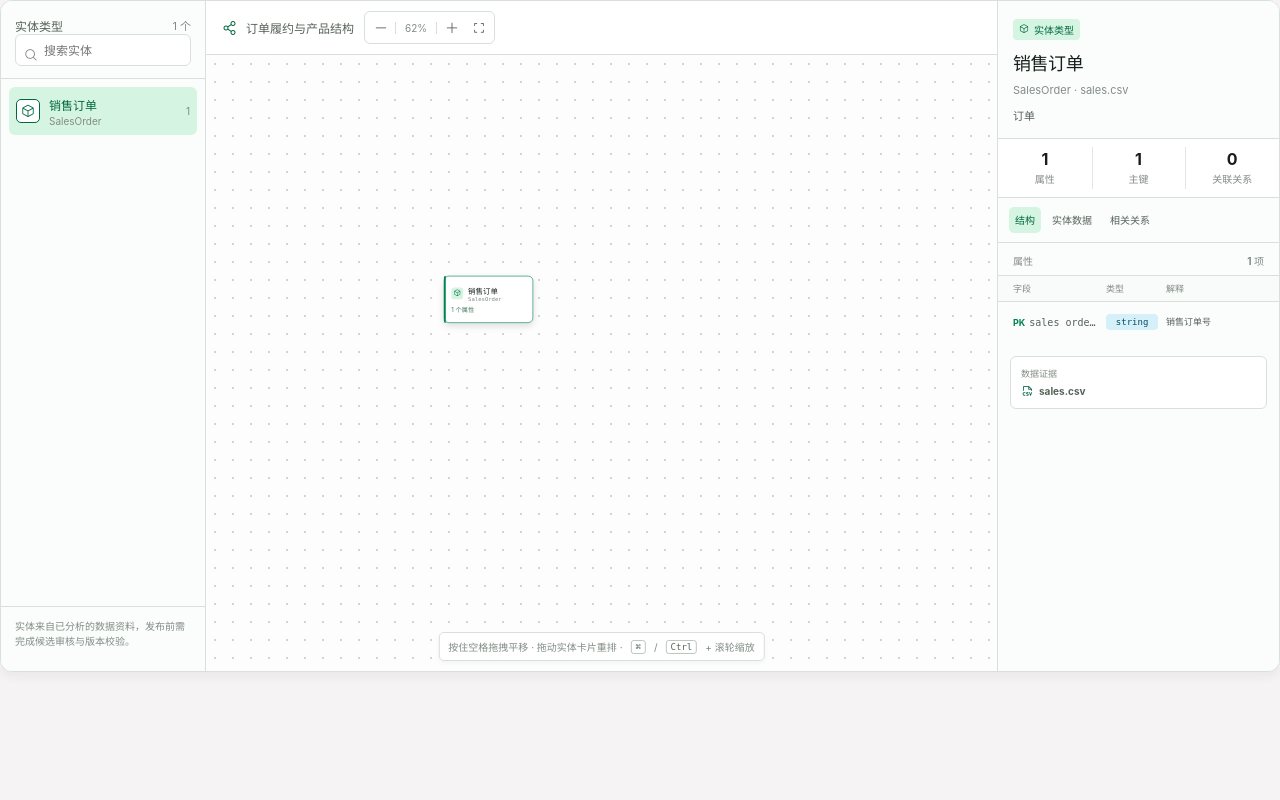
it: shows materialized entity instances and their source evidence
Click the button "实体数据": (1072,220) top-left (1045, 206), bottom-right (1099, 232)
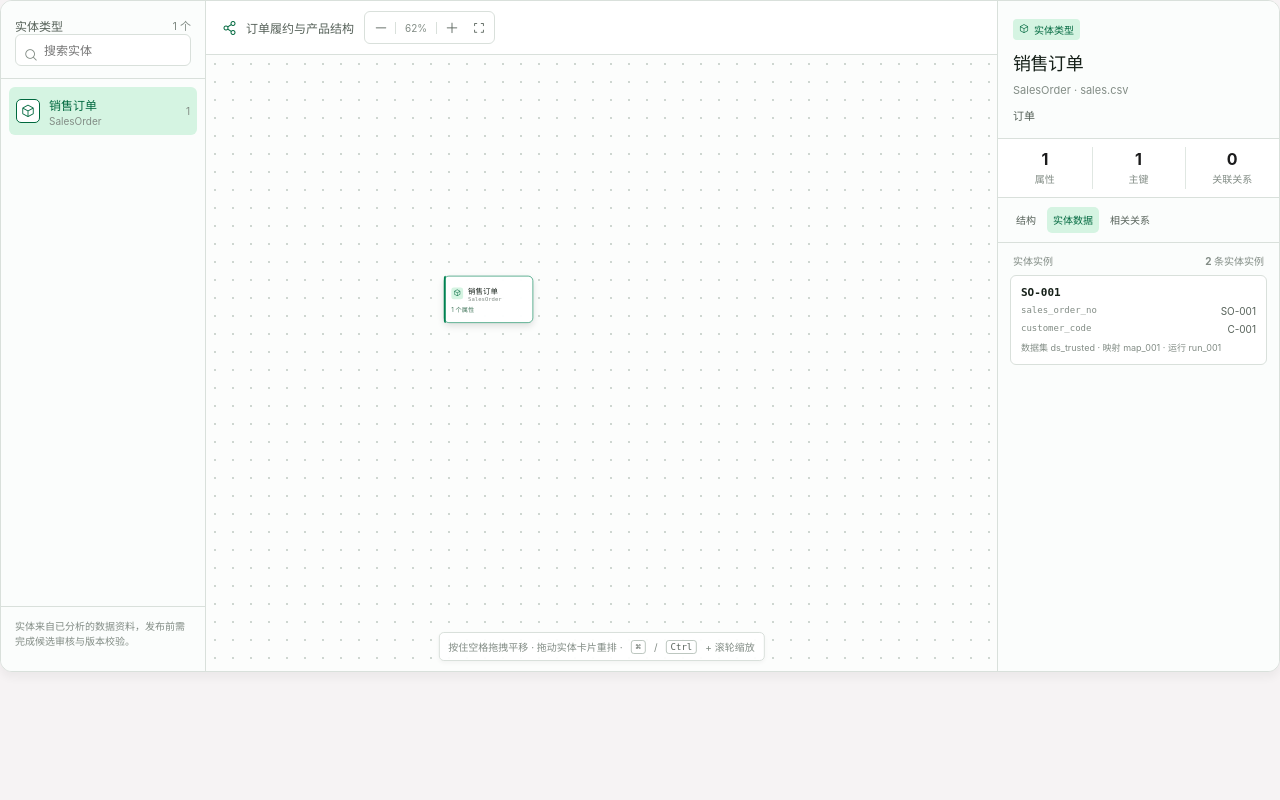
Expected: the text "2 条实体实例" is shown, top-left (1205, 252), bottom-right (1264, 268)
Expected: the text "SO-001" is shown 2 times, top-left (1021, 286), bottom-right (1061, 298); top-left (1021, 304), bottom-right (1256, 316)
Expected: the text "数据集 ds_trusted · 映射 map_001 · 运行 run_001" is shown, top-left (1021, 340), bottom-right (1256, 354)
